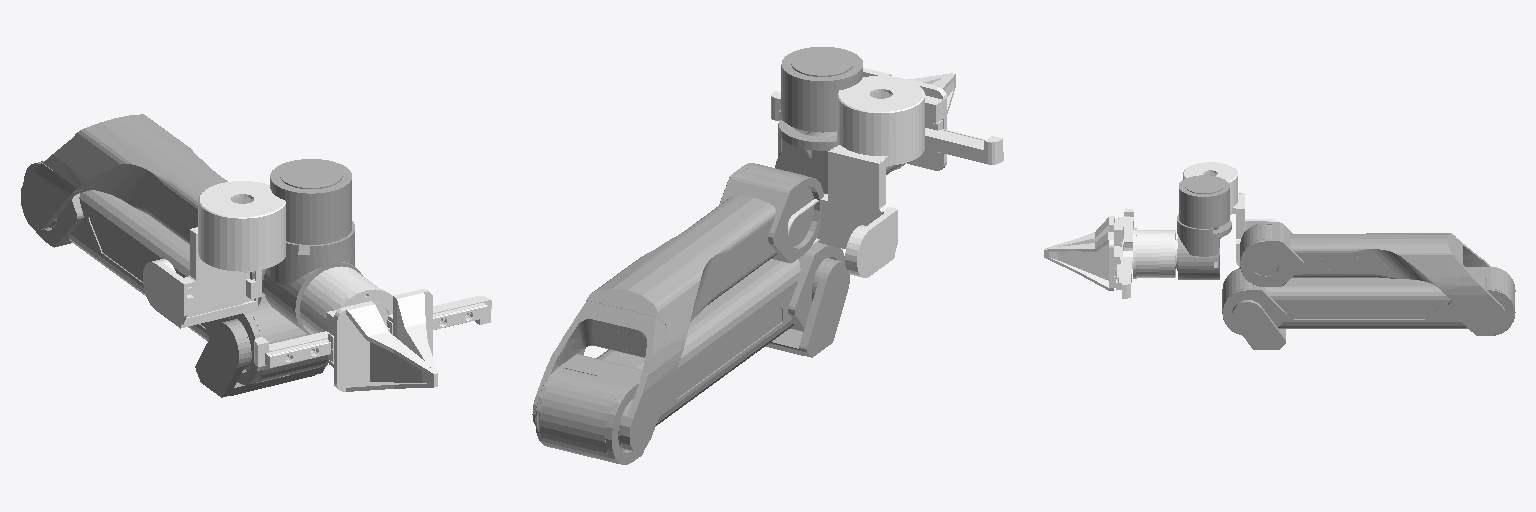
The robot description file, URDF, robot "arx5":
<?xml version="1.0" encoding="utf-8"?>
<!-- This URDF was automatically created by SolidWorks to URDF Exporter! Originally created by [author] ([email redacted]) 
     Commit Version: 1.6.0-4-g7f85cfe  Build Version: 1.6.7995.38578
     For more information, please see http://wiki.ros.org/sw_urdf_exporter -->
<robot
  name="arx5">
  <link
    name="base_link">
    <inertial>
      <origin
        xyz="1.0325E-17 -1.9826E-18 0.030692"
        rpy="0 0 0" />
      <mass
        value="0.15495" />
      <inertia
        ixx="7.6281E-05"
        ixy="-2.8459E-21"
        ixz="-9.5368E-21"
        iyy="7.5744E-05"
        iyz="-7.028E-21"
        izz="6.9418E-05" />
    </inertial>
    <visual>
      <origin
        xyz="0 0 0"
        rpy="0 0 0" />
      <geometry>
        <mesh
          filename="package://arx5/meshes/base_link.STL" />
      </geometry>
      <material
        name="">
        <color
          rgba="0.75294 0.75294 0.75294 1" />
      </material>
    </visual>
    <collision>
      <origin
        xyz="0 0 0"
        rpy="0 0 0" />
      <geometry>
        <mesh
          filename="package://arx5/meshes/base_link.STL" />
      </geometry>
    </collision>
  </link>
  <link
    name="link1">
    <inertial>
      <origin
        xyz="-0.0024367 -0.0061914 0.018411"
        rpy="0 0 0" />
      <mass
        value="0.046509" />
      <inertia
        ixx="1.3854E-05"
        ixy="1.1469E-07"
        ixz="-1.5351E-07"
        iyy="1.4048E-05"
        iyz="3.1276E-06"
        izz="1.4928E-05" />
    </inertial>
    <visual>
      <origin
        xyz="0 0 0"
        rpy="0 0 0" />
      <geometry>
        <mesh
          filename="package://arx5/meshes/link1.STL" />
      </geometry>
      <material
        name="">
        <color
          rgba="0.75294 0.75294 0.75294 1" />
      </material>
    </visual>
    <collision>
      <origin
        xyz="0 0 0"
        rpy="0 0 0" />
      <geometry>
        <mesh
          filename="package://arx5/meshes/link1.STL" />
      </geometry>
    </collision>
  </link>
  <joint
    name="joint1"
    type="revolute">
    <origin
      xyz="0 0 0.0605"
      rpy="0 0 0" />
    <parent
      link="base_link" />
    <child
      link="link1" />
    <axis
      xyz="0 0 1" />
    <limit
      lower="-3.14"
      upper="3.14"
      effort="100"
      velocity="100" />
  </joint>
  <link
    name="link2">
    <inertial>
      <origin
        xyz="0.13266 0.00010351 -0.0010415"
        rpy="0 0 0" />
      <mass
        value="0.82277" />
      <inertia
        ixx="0.00026994"
        ixy="-2.1569E-05"
        ixz="-1.4051E-07"
        iyy="0.0027408"
        iyz="-3.2571E-08"
        izz="0.0028132" />
    </inertial>
    <visual>
      <origin
        xyz="0 0 0"
        rpy="0 0 0" />
      <geometry>
        <mesh
          filename="package://arx5/meshes/link2.STL" />
      </geometry>
      <material
        name="">
        <color
          rgba="0.75294 0.75294 0.75294 1" />
      </material>
    </visual>
    <collision>
      <origin
        xyz="0 0 0"
        rpy="0 0 0" />
      <geometry>
        <mesh
          filename="package://arx5/meshes/link2.STL" />
      </geometry>
    </collision>
  </link>
  <joint
    name="joint2"
    type="revolute">
    <origin
      xyz="0.00075 -0.02 0.04"
      rpy="1.5708 0 1.5708" />
    <parent
      link="link1" />
    <child
      link="link2" />
    <axis
      xyz="0 0 -1" />
    <limit
      lower="-3.6"
      upper="0.28"
      effort="100"
      velocity="100" />
  </joint>
  <link
    name="link3">
    <inertial>
      <origin
        xyz="0.14108 -0.053069 -0.0012758"
        rpy="0 0 0" />
      <mass
        value="0.45108" />
      <inertia
        ixx="0.00014646"
        ixy="0.00010828"
        ixz="-1.1492E-05"
        iyy="0.0013749"
        iyz="5.3153E-06"
        izz="0.0014341" />
    </inertial>
    <visual>
      <origin
        xyz="0 0 0"
        rpy="0 0 0" />
      <geometry>
        <mesh
          filename="package://arx5/meshes/link3.STL" />
      </geometry>
      <material
        name="">
        <color
          rgba="0.75294 0.75294 0.75294 1" />
      </material>
    </visual>
    <collision>
      <origin
        xyz="0 0 0"
        rpy="0 0 0" />
      <geometry>
        <mesh
          filename="package://arx5/meshes/link3.STL" />
      </geometry>
    </collision>
  </link>
  <joint
    name="joint3"
    type="revolute">
    <origin
      xyz="0.264 0 0"
      rpy="0 0 3.1416" />
    <parent
      link="link2" />
    <child
      link="link3" />
    <axis
      xyz="0 0 -1" />
    <limit
      lower="0"
      upper="3.14"
      effort="100"
      velocity="100" />
  </joint>
  <link
    name="link4">
    <inertial>
      <origin
        xyz="0.033502 -0.027529 -0.0063895"
        rpy="0 0 0" />
      <mass
        value="0.042855" />
      <inertia
        ixx="2.3925E-05"
        ixy="3.4346E-06"
        ixz="-4.2531E-06"
        iyy="2.5668E-05"
        iyz="2.1761E-06"
        izz="2.4119E-05" />
    </inertial>
    <visual>
      <origin
        xyz="0 0 0"
        rpy="0 0 0" />
      <geometry>
        <mesh
          filename="package://arx5/meshes/link4.STL" />
      </geometry>
      <material
        name="">
        <color
          rgba="1 1 1 1" />
      </material>
    </visual>
    <collision>
      <origin
        xyz="0 0 0"
        rpy="0 0 0" />
      <geometry>
        <mesh
          filename="package://arx5/meshes/link4.STL" />
      </geometry>
    </collision>
  </link>
  <joint
    name="joint4"
    type="revolute">
    <origin
      xyz="0.245 -0.056 -0.000475"
      rpy="0 0 0" />
    <parent
      link="link3" />
    <child
      link="link4" />
    <axis
      xyz="0 0 -1" />
    <limit
      lower="-1.571"
      upper="1.571"
      effort="100"
      velocity="100" />
  </joint>
  <link
    name="link5">
    <inertial>
      <origin
        xyz="7.395E-05 0.0039076 -0.052192"
        rpy="0 0 0" />
      <mass
        value="0.20885" />
      <inertia
        ixx="6.8876E-05"
        ixy="1.7408E-07"
        ixz="9.4704E-09"
        iyy="7.8264E-05"
        iyz="-8.1367E-07"
        izz="7.805E-05" />
    </inertial>
    <visual>
      <origin
        xyz="0 0 0"
        rpy="0 0 0" />
      <geometry>
        <mesh
          filename="package://arx5/meshes/link5.STL" />
      </geometry>
      <material
        name="">
        <color
          rgba="0.75294 0.75294 0.75294 1" />
      </material>
    </visual>
    <collision>
      <origin
        xyz="0 0 0"
        rpy="0 0 0" />
      <geometry>
        <mesh
          filename="package://arx5/meshes/link5.STL" />
      </geometry>
    </collision>
  </link>
  <joint
    name="joint5"
    type="revolute">
    <origin
      xyz="0.06675 -0.084 -0.000275"
      rpy="1.5708 1.5708 0" />
    <parent
      link="link4" />
    <child
      link="link5" />
    <axis
      xyz="0 0 1" />
    <limit
      lower="-1.571"
      upper="1.571"
      effort="100"
      velocity="100" />
  </joint>
  <link
    name="link6">
    <inertial>
      <origin
        xyz="0.00049313 9.848E-05 0.031695"
        rpy="0 0 0" />
      <mass
        value="0.12392" />
      <inertia
        ixx="2.5041E-05"
        ixy="9.8317E-07"
        ixz="1.404E-06"
        iyy="0.00010157"
        iyz="-1.8302E-08"
        izz="0.00011347" />
    </inertial>
    <visual>
      <origin
        xyz="0 0 0"
        rpy="0 0 0" />
      <geometry>
        <mesh
          filename="package://arx5/meshes/link6.STL" />
      </geometry>
      <material
        name="">
        <color
          rgba="1 1 1 1" />
      </material>
    </visual>
    <collision>
      <origin
        xyz="0 0 0"
        rpy="0 0 0" />
      <geometry>
        <mesh
          filename="package://arx5/meshes/link6.STL" />
      </geometry>
    </collision>
  </link>
  <joint
    name="joint6"
    type="revolute">
    <origin
      xyz="0.00046414 0.028539 -0.082947"
      rpy="-1.5708 0 0" />
    <parent
      link="link5" />
    <child
      link="link6" />
    <axis
      xyz="-0.015856 0 -0.99987" />
    <limit
      lower="-3.14"
      upper="3.14"
      effort="100"
      velocity="100" />
  </joint>
  <link
    name="gripper1">
    <inertial>
      <origin
        xyz="-0.010949 -0.007984 -0.0053619"
        rpy="0 0 0" />
      <mass
        value="0.027146" />
      <inertia
        ixx="8.9441E-06"
        ixy="6.8743E-07"
        ixz="-3.1012E-06"
        iyy="1.1334E-05"
        iyz="1.6273E-07"
        izz="1.5094E-05" />
    </inertial>
    <visual>
      <origin
        xyz="0 0 0"
        rpy="0 0 0" />
      <geometry>
        <mesh
          filename="package://arx5/meshes/gripper1.STL" />
      </geometry>
      <material
        name="">
        <color
          rgba="1 1 1 1" />
      </material>
    </visual>
    <collision>
      <origin
        xyz="0 0 0"
        rpy="0 0 0" />
      <geometry>
        <mesh
          filename="package://arx5/meshes/gripper1.STL" />
      </geometry>
    </collision>
  </link>
  <joint
    name="joint7"
    type="prismatic">
    <origin
      xyz="-0.021844 -0.0046447 0.070283"
      rpy="0.0022947 1.5549 -3.1416" />
    <parent
      link="link6" />
    <child
      link="gripper1" />
    <axis
      xyz="0 0 1" />
    <limit
      lower="0"
      upper="0.04764"
      effort="100"
      velocity="10" />
  </joint>
  <link
    name="gripper2">
    <inertial>
      <origin
        xyz="-0.011249 0.0029863 -0.0053619"
        rpy="0 0 0" />
      <mass
        value="0.027146" />
      <inertia
        ixx="9.1856E-06"
        ixy="1.6166E-06"
        ixz="-3.1012E-06"
        iyy="1.1334E-05"
        iyz="6.1248E-07"
        izz="1.5336E-05" />
    </inertial>
    <visual>
      <origin
        xyz="0 0 0"
        rpy="0 0 0" />
      <geometry>
        <mesh
          filename="package://arx5/meshes/gripper2.STL" />
      </geometry>
      <material
        name="">
        <color
          rgba="1 1 1 1" />
      </material>
    </visual>
    <collision>
      <origin
        xyz="0 0 0"
        rpy="0 0 0" />
      <geometry>
        <mesh
          filename="package://arx5/meshes/gripper2.STL" />
      </geometry>
    </collision>
  </link>
  <joint
    name="joint8"
    type="prismatic">
    <origin
      xyz="0.024012 -0.00445 0.069256"
      rpy="-3.1393 1.5549 -3.1416" />
    <parent
      link="link6" />
    <child
      link="gripper2" />
    <axis
      xyz="0 0 -1" />
    <limit
      lower="-0.04764"
      upper="0"
      effort="100"
      velocity="10" />
  </joint>
</robot>

--- What the picture shows (computed from the rendered views, not written in the file) ---
The picture shows the robot from 3 angles, left to right: view 1: azimuth 30°, elevation 25°; view 2: azimuth 150°, elevation 25°; view 3: azimuth 270°, elevation 25°; orthographic projection.
Robot: arx5 — 9 links, 8 joints (6 revolute, 2 prismatic); root link base_link; default pose: all joints at 0.
Links seen in each view (by area): view 1: link3, link4, link2, link5, link6, gripper2, link1, gripper1; view 2: link3, link2, link4, link5, link1, link6, gripper2; view 3: link3, link2, link5, link6, gripper1, link1, link4, gripper2.
Link boxes in pixels (left/top/right/bottom): link3: left=21, top=114, right=265, bottom=292; link4: left=143, top=181, right=285, bottom=328; link2: left=23, top=160, right=328, bottom=384; link5: left=263, top=159, right=362, bottom=334; link6: left=254, top=266, right=491, bottom=367; gripper2: left=327, top=301, right=435, bottom=391; link1: left=195, top=320, right=325, bottom=397; gripper1: left=387, top=289, right=437, bottom=386; link3: left=532, top=163, right=823, bottom=452; link2: left=535, top=242, right=844, bottom=464; link4: left=788, top=76, right=924, bottom=277; link5: left=775, top=47, right=862, bottom=193; link1: left=765, top=259, right=849, bottom=357; link6: left=771, top=91, right=1003, bottom=174; gripper2: left=907, top=74, right=955, bottom=170; link3: left=1240, top=222, right=1505, bottom=330; link2: left=1222, top=267, right=1515, bottom=335; link5: left=1177, top=175, right=1231, bottom=279; link6: left=1116, top=208, right=1177, bottom=298; gripper1: left=1044, top=232, right=1120, bottom=290; link1: left=1232, top=300, right=1285, bottom=349; link4: left=1183, top=162, right=1281, bottom=270; gripper2: left=1045, top=216, right=1123, bottom=248.
Size in the robot's own frame: 0.182 by 0.5142 by 0.18 metres.
Meshes: 9 distinct files referenced, 8 mesh visuals loaded (8 binary STL); not drawn: 1 (reference not matched to a file when rendering).
